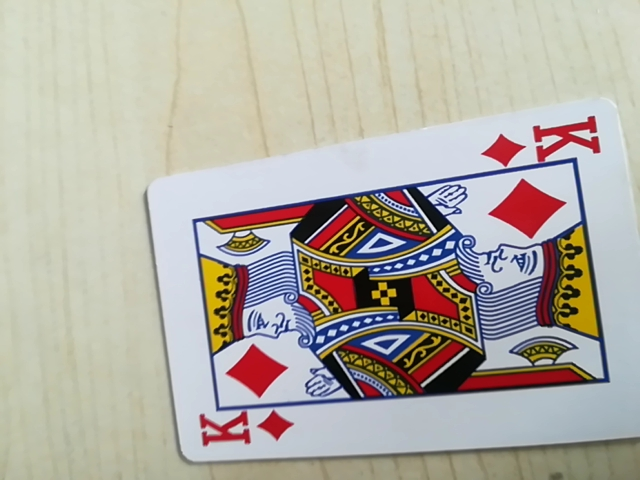fk k: (484, 115, 606, 171), (191, 402, 294, 460)
